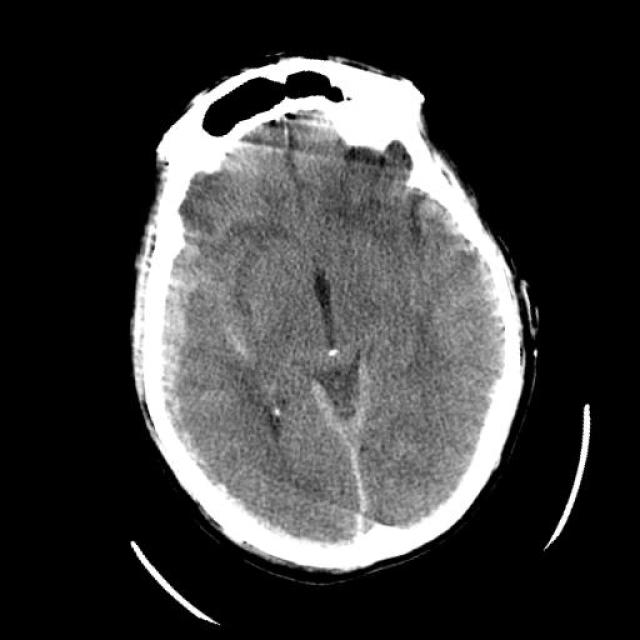Subarachnoid: (296, 376, 402, 556)
Subdural: (106, 228, 280, 572)
